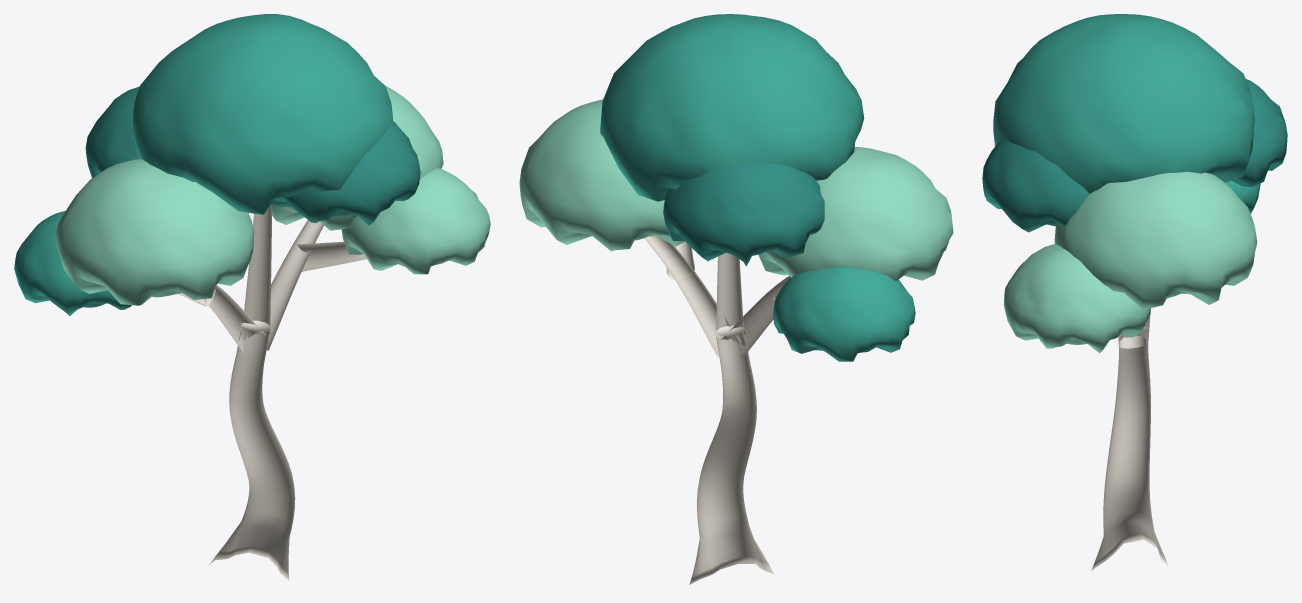
Rendered from GROVE_TREE.glb.
The picture shows the model from 3 angles, left to right: view 1: azimuth 30°, elevation 25°; view 2: azimuth 150°, elevation 25°; view 3: azimuth 270°, elevation 25°; orthographic projection.
Visible parts, largest first — view 1: canopy_fern, canopy_mint, trunk, canopy_jade; view 2: canopy_fern, canopy_mint, trunk, canopy_jade; view 3: canopy_fern, canopy_mint, canopy_jade, trunk.
Part boxes in pixels (x1,y1,x2,y2): canopy_fern: [14, 14, 393, 315]; canopy_mint: [55, 86, 490, 305]; trunk: [178, 204, 366, 580]; canopy_jade: [85, 86, 420, 225]; canopy_fern: [600, 14, 915, 361]; canopy_mint: [519, 99, 953, 281]; trunk: [644, 236, 790, 584]; canopy_jade: [663, 163, 824, 266]; canopy_fern: [993, 14, 1260, 213]; canopy_mint: [1003, 171, 1257, 353]; canopy_jade: [982, 79, 1287, 232]; trunk: [1091, 310, 1168, 570].
Size of the model in its own units: 21.37 by 28.28 by 14.11.
